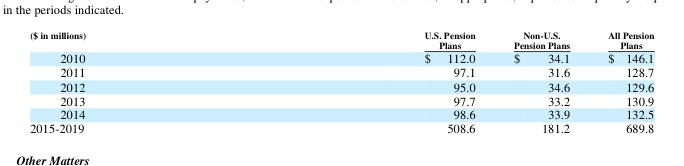table: (29, 29, 653, 135)
table column: (254, 29, 493, 135), (29, 29, 254, 135), (493, 29, 588, 135), (588, 29, 653, 135)
table column header: (29, 29, 653, 50)
table row: (29, 29, 653, 50), (29, 50, 653, 65), (29, 65, 653, 79), (29, 79, 653, 93), (29, 93, 653, 107), (29, 107, 653, 121), (29, 121, 653, 135)
